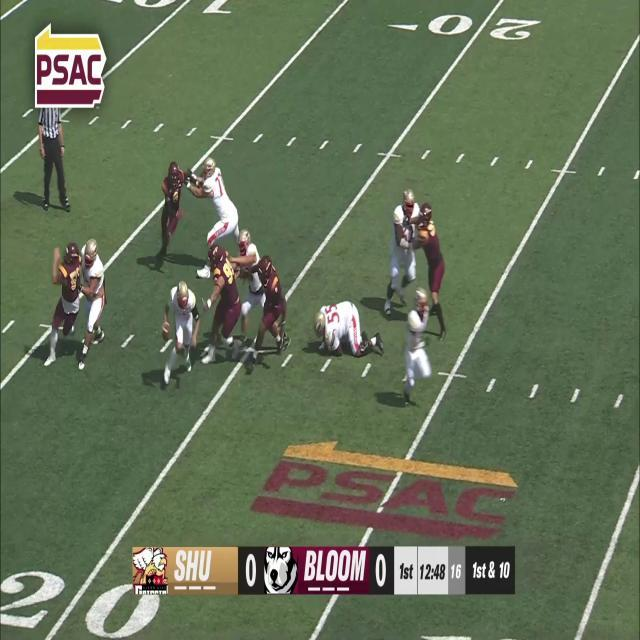football: (162, 319, 170, 341)
